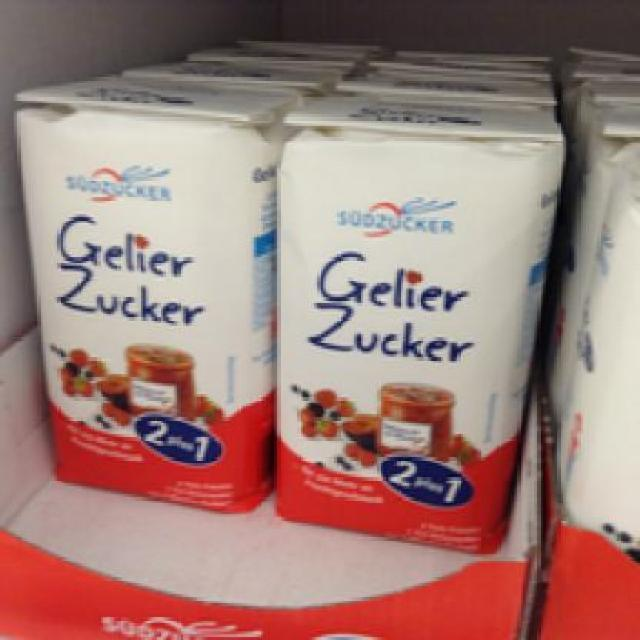Sugar: (274, 91, 566, 552), (5, 72, 281, 514)
